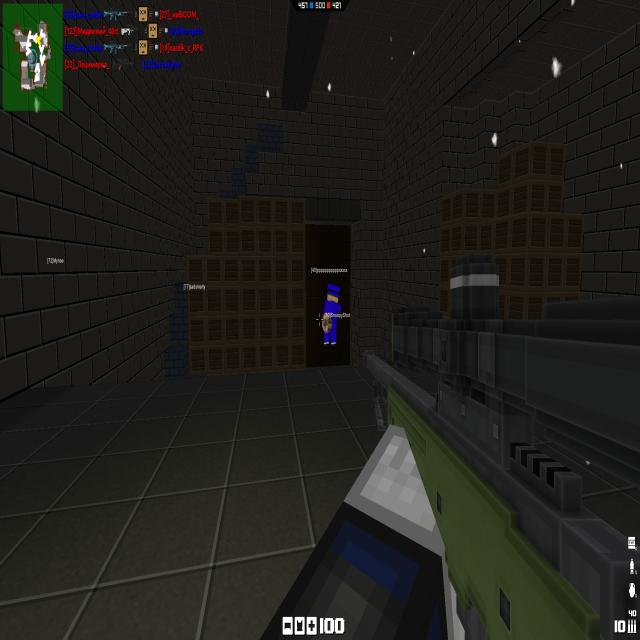player: (318, 284, 339, 349)
